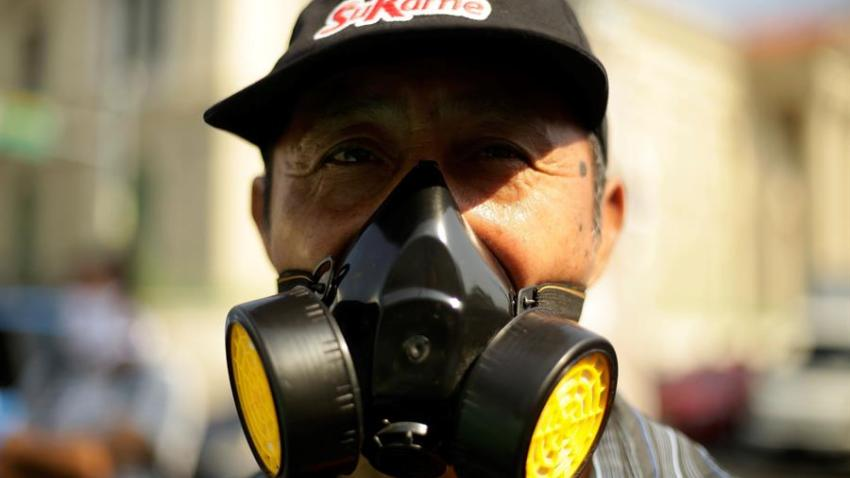with_mask: (220, 6, 639, 478)
